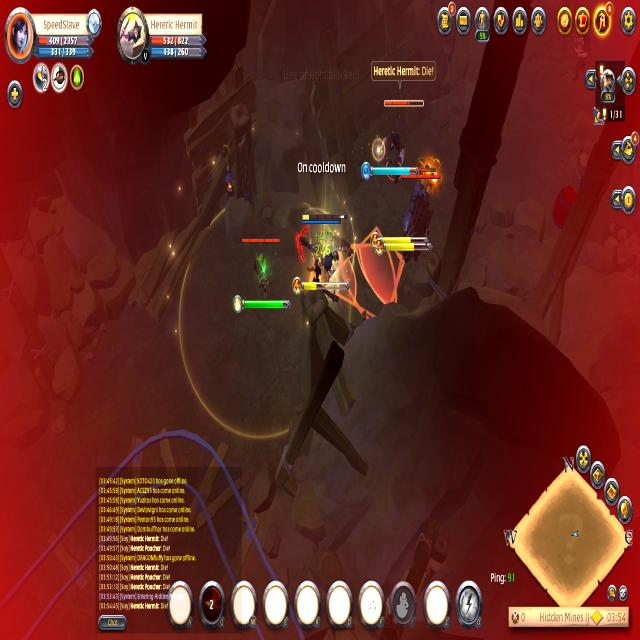ore: (394, 159, 442, 262), (378, 91, 425, 186), (239, 233, 286, 320)
red: (300, 208, 347, 310)
silver: (338, 218, 404, 314)
